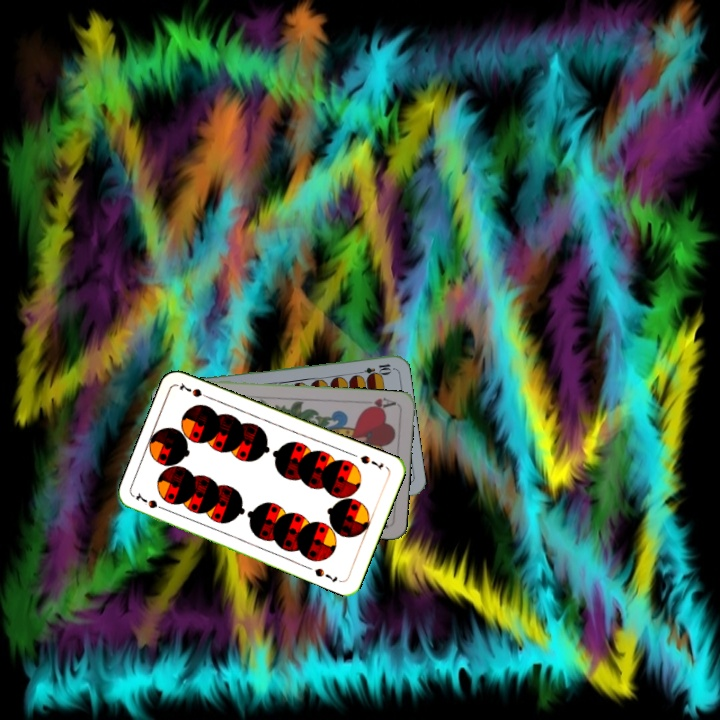E10: (353, 360, 394, 378)
HA: (360, 393, 399, 413)
S7: (131, 489, 170, 514), (356, 451, 386, 472)
